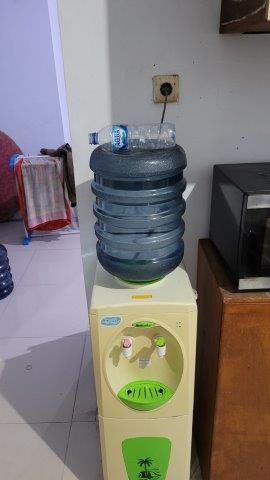botolplastik: (87, 123, 178, 149)
